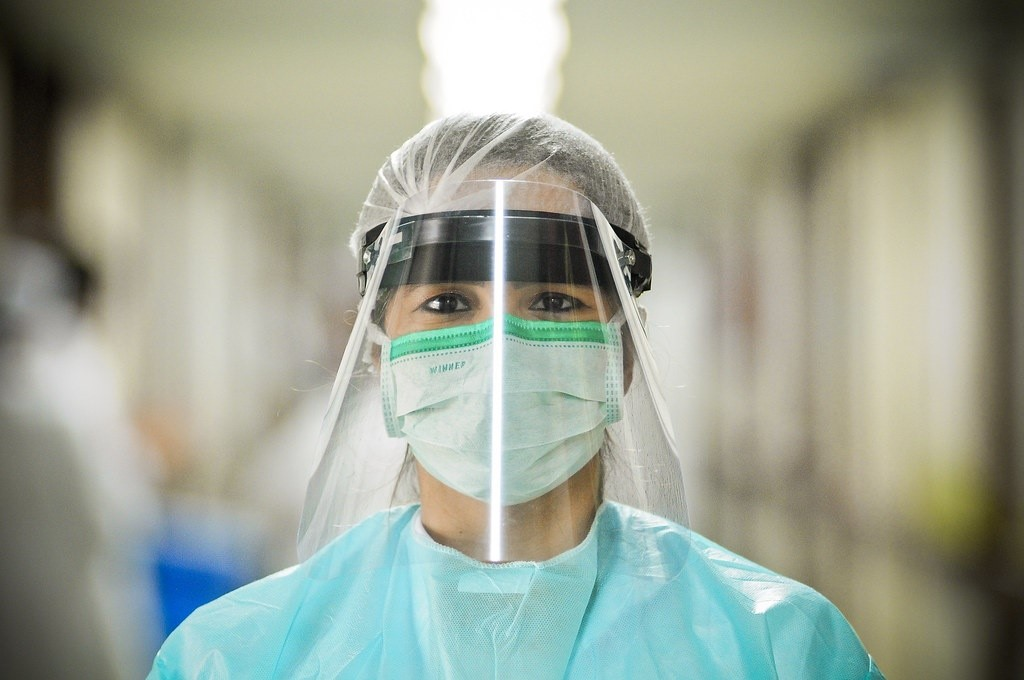face_with_mask: (359, 115, 639, 509)
